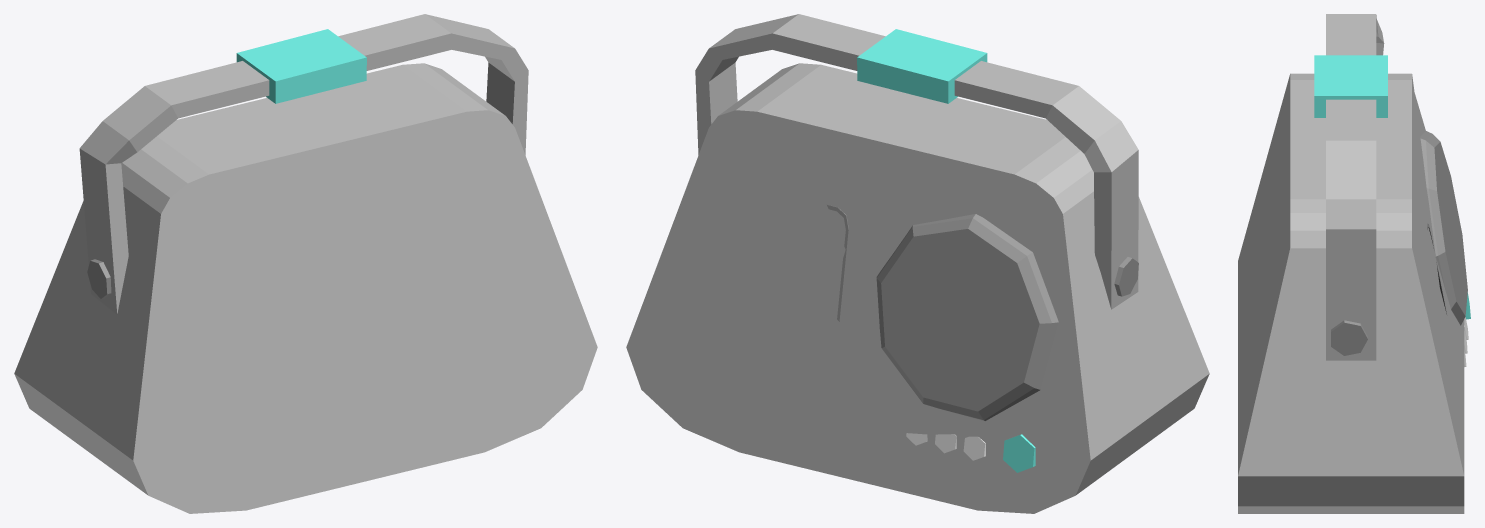
Rendered from radio3_V2.fbx.
3 renders of one model, left to right at view 1: azimuth 30°, elevation 25°; view 2: azimuth 150°, elevation 25°; view 3: azimuth 270°, elevation 25°, orthographic. The views are drawn at different scales.
Parts seen in each view (by area): view 1: Cube.022; view 2: Cube.022; view 3: Cube.022.
Part boxes in pixels (x1=…): Cube.022: x1=14, y1=14, x2=597, y2=513; Cube.022: x1=626, y1=14, x2=1209, y2=513; Cube.022: x1=1238, y1=14, x2=1470, y2=513.
Size of the model in its own units: 405 by 321 by 185.
